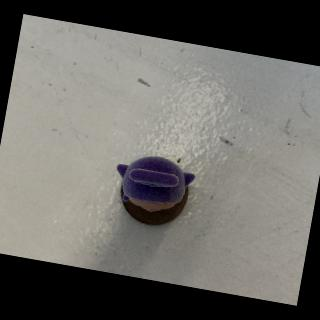teletubby: (117, 157, 195, 212)
